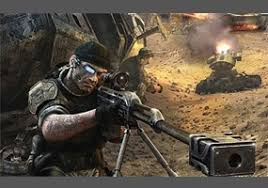gun: (91, 68, 257, 175)
